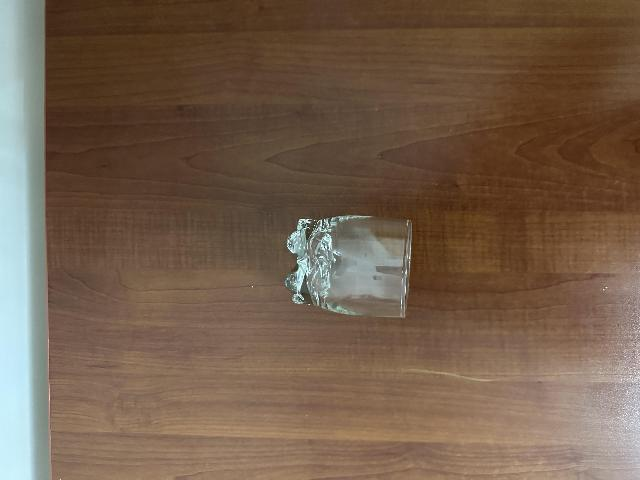Cam: (284, 205, 413, 324)
